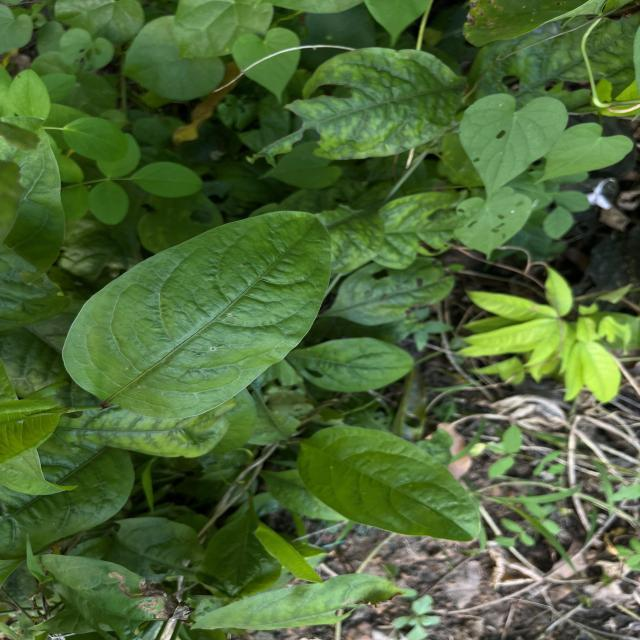Plumbago indica: (54, 207, 338, 422), (291, 418, 488, 546)
